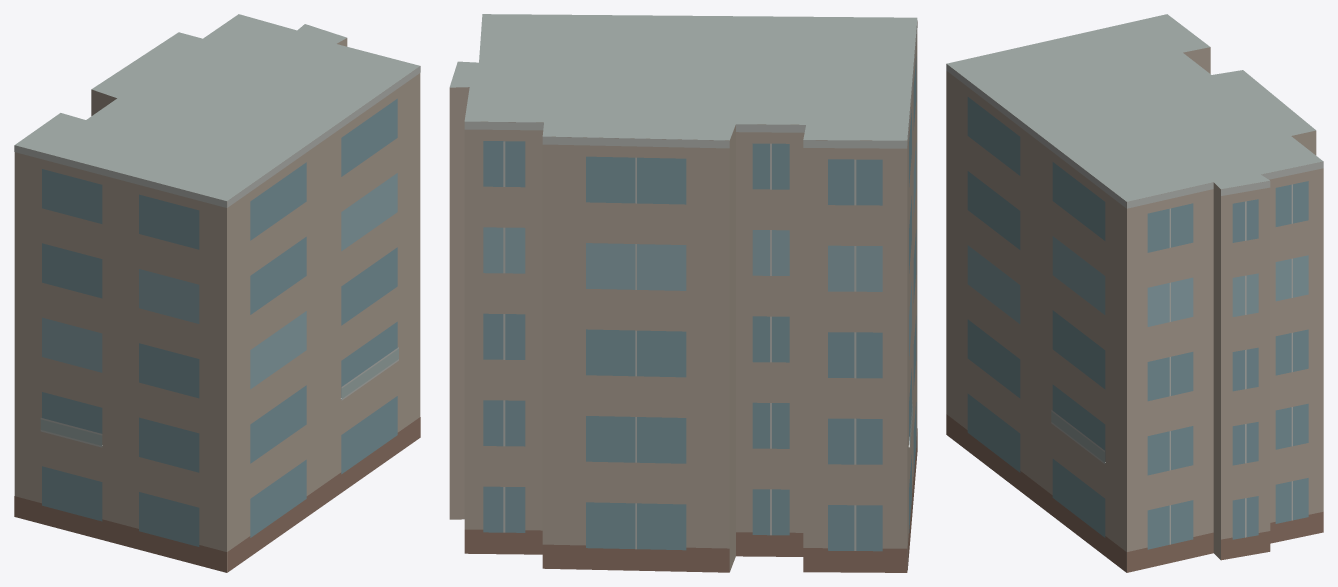
The model's file is survey-upis-33046467.glb.
The picture shows the model from 3 angles, left to right: view 1: azimuth 30°, elevation 25°; view 2: azimuth 150°, elevation 25°; view 3: azimuth 270°, elevation 25°; orthographic projection. The views are drawn at different scales.
Visible parts, largest first — view 1: survey-upis-33046467.tmp; view 2: survey-upis-33046467.tmp; view 3: survey-upis-33046467.tmp.
Boxes of the visible parts, bbox=[...] form: survey-upis-33046467.tmp: bbox=[14, 14, 420, 572]; survey-upis-33046467.tmp: bbox=[449, 14, 917, 572]; survey-upis-33046467.tmp: bbox=[946, 14, 1323, 572].
Size of the model in its own units: 14.35 by 13.2 by 12.17.
